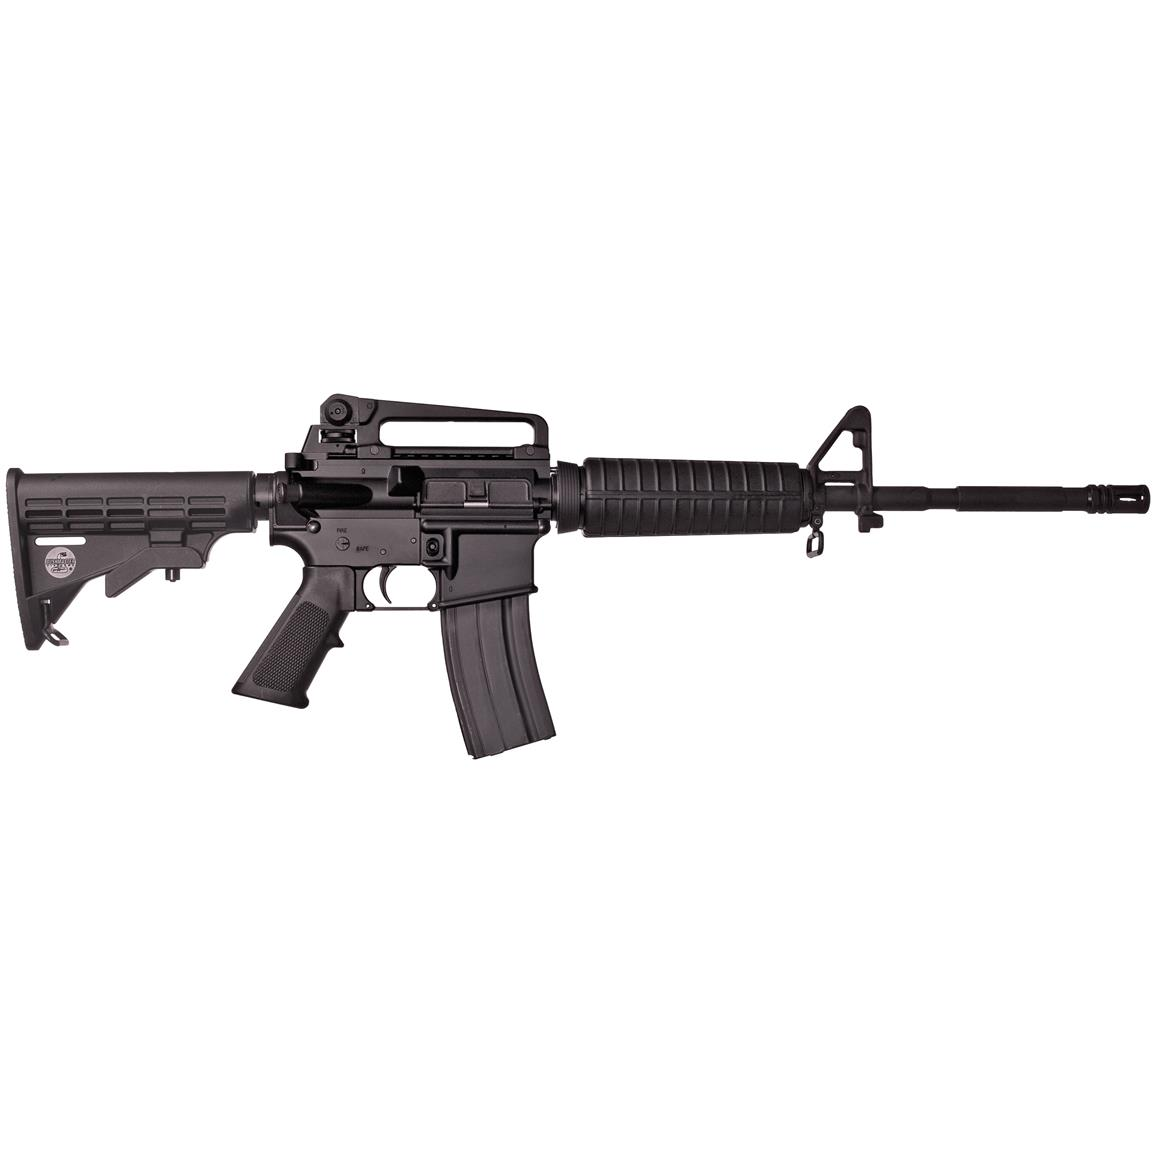Arma Real: (6, 387, 1148, 759)
